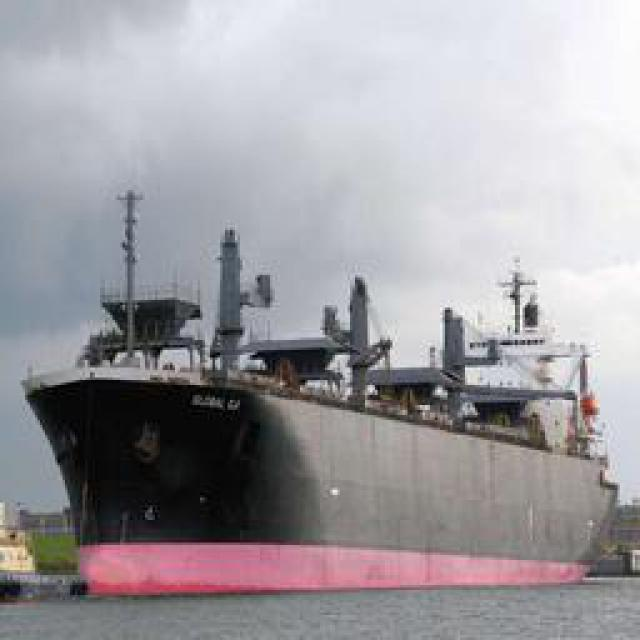Ship: (31, 253, 621, 588)
